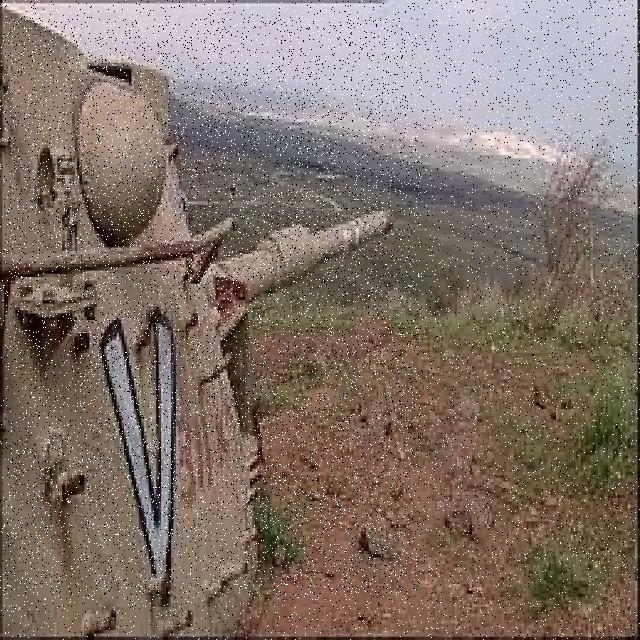MIL_MBT: (5, 19, 421, 595)
